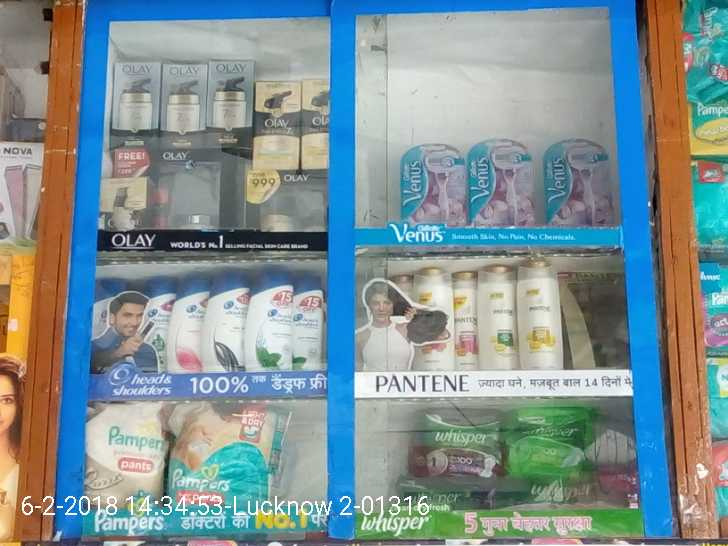venus: (466, 139, 535, 227), (545, 135, 607, 226), (401, 141, 461, 223)
